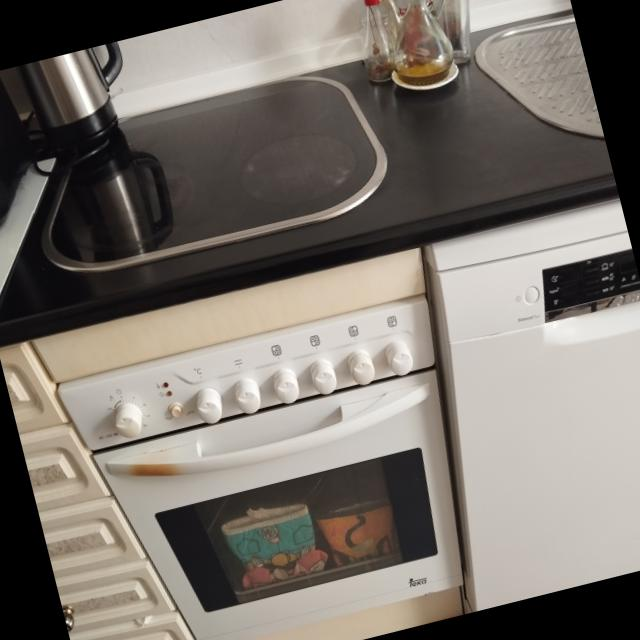cabinet: (0, 341, 197, 640)
countertop: (0, 63, 617, 334)
oven: (56, 294, 463, 640)
shower: (474, 10, 604, 141)
sofa: (42, 76, 386, 272)
